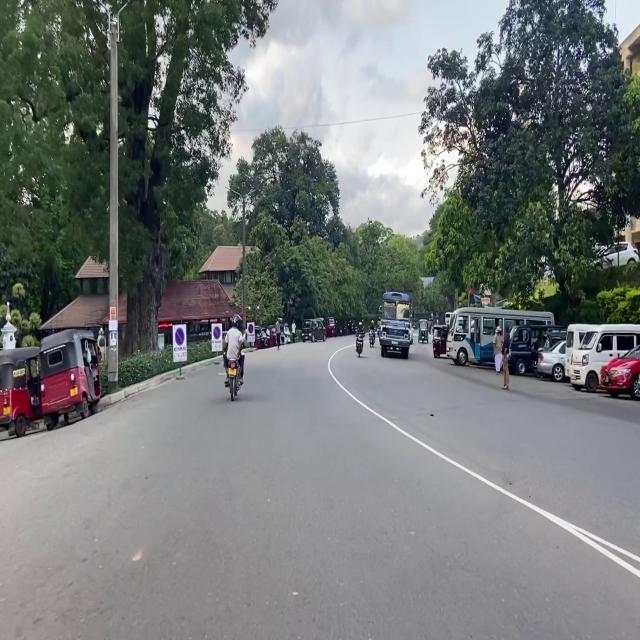bus: (446, 307, 554, 365), (380, 292, 412, 359)
car: (601, 345, 640, 399), (537, 341, 565, 382), (302, 318, 326, 341)
motorcycle: (228, 357, 240, 400), (356, 331, 363, 357), (370, 328, 375, 347)
person: (223, 315, 244, 387), (502, 328, 510, 390), (493, 326, 502, 370), (275, 318, 282, 350), (355, 321, 364, 338), (370, 320, 375, 335), (292, 321, 295, 343)
three wheeler: (40, 330, 101, 428), (0, 347, 41, 437), (433, 325, 447, 358), (419, 320, 428, 343), (281, 324, 291, 344), (325, 317, 335, 337), (259, 328, 268, 348), (255, 325, 261, 349)
van: (567, 325, 640, 392), (508, 326, 543, 376), (565, 324, 590, 376)
